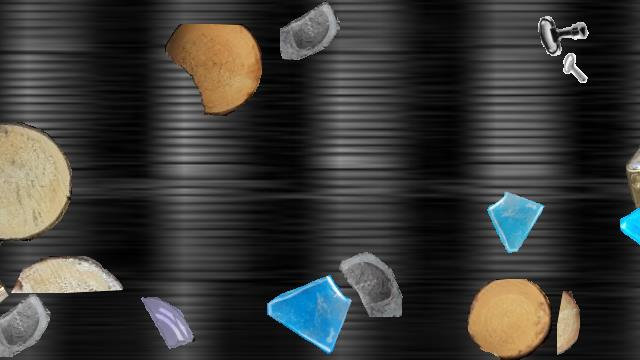glass: (263, 269, 353, 359), (329, 240, 405, 316), (484, 190, 548, 254), (280, 1, 340, 61), (138, 295, 196, 353), (0, 294, 50, 356), (620, 177, 640, 267), (0, 124, 11, 216), (0, 190, 1, 254)
metal: (531, 1, 593, 63), (539, 51, 587, 99), (637, 51, 640, 101)
plastic: (626, 101, 640, 247), (0, 224, 9, 332)
wood: (165, 24, 261, 116), (0, 122, 71, 240), (467, 279, 551, 359), (9, 256, 123, 292), (557, 291, 579, 359)
